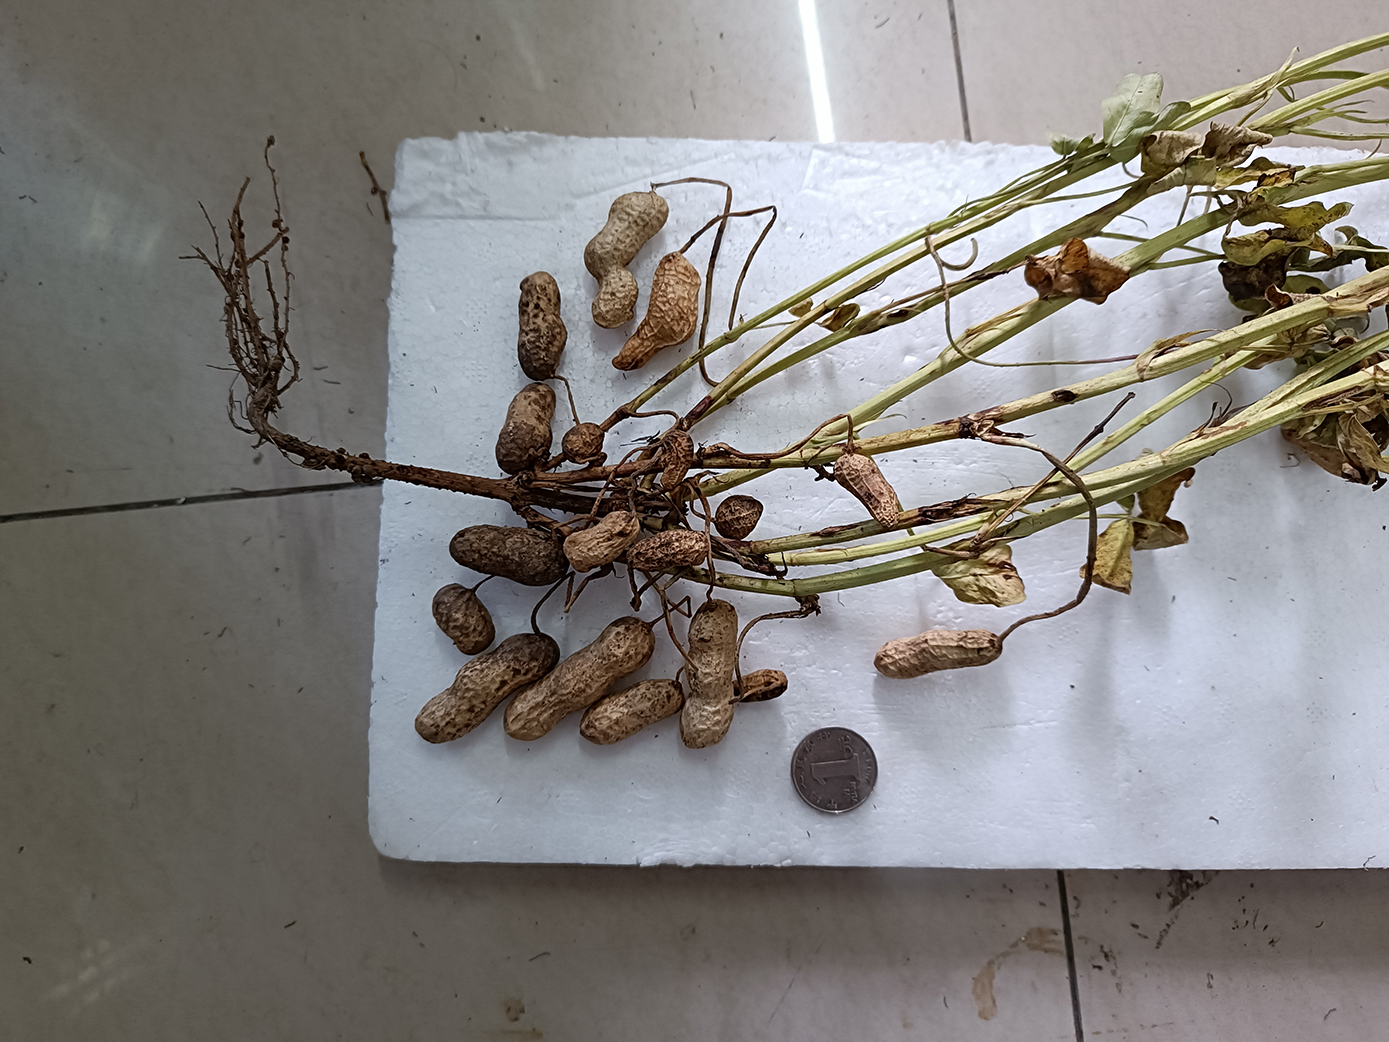h: (505, 616, 656, 739), (414, 634, 559, 742), (582, 190, 667, 329), (612, 254, 703, 370), (681, 601, 738, 746), (579, 681, 682, 743), (873, 629, 1003, 679), (496, 383, 557, 476), (832, 453, 902, 529), (564, 511, 638, 571), (431, 584, 493, 656), (628, 531, 708, 569), (726, 669, 788, 702), (659, 430, 693, 490), (562, 424, 605, 462)
l: (450, 525, 566, 586), (517, 271, 567, 379), (714, 496, 765, 540)
